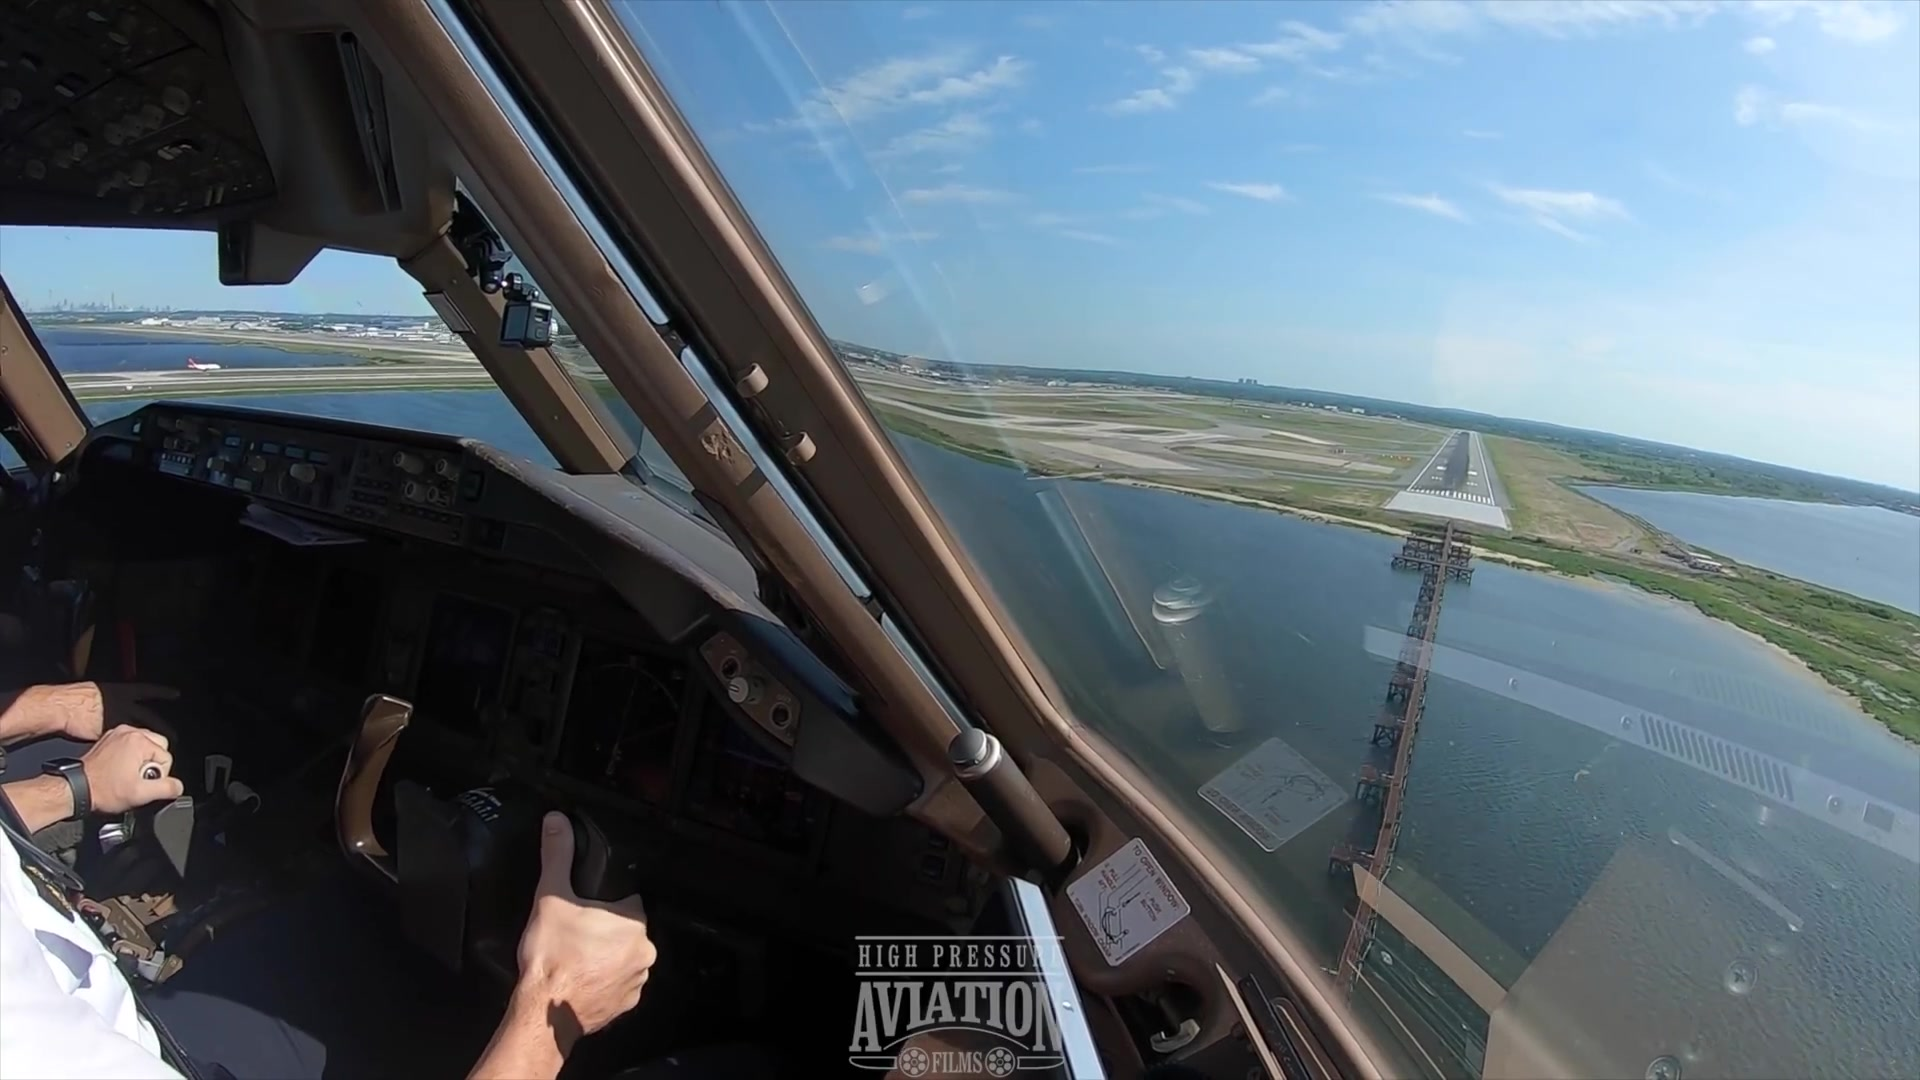entrance: (1407, 487, 1491, 506)
runway: (1396, 425, 1501, 510)
